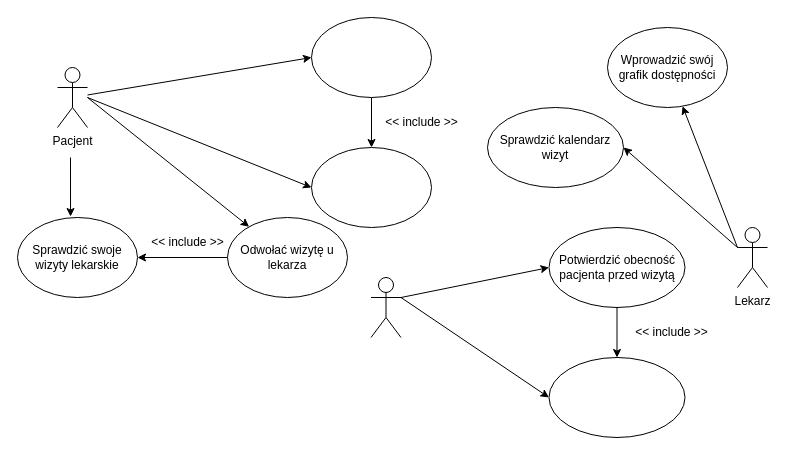
Image size: 788x455. Some labels were removed from this diagram. The box of each missing label's shape, as (x1, y1, x2, y2) in pixels:
Recepcjonista: (370, 276, 401, 338)
Sprawdzić dostępność lekarzy: (310, 146, 432, 228)
Sprawdzić kalendarz umówionych wizyt: (548, 356, 685, 438)
Zarejestrować się na wizytę u lekarza: (310, 16, 432, 98)
